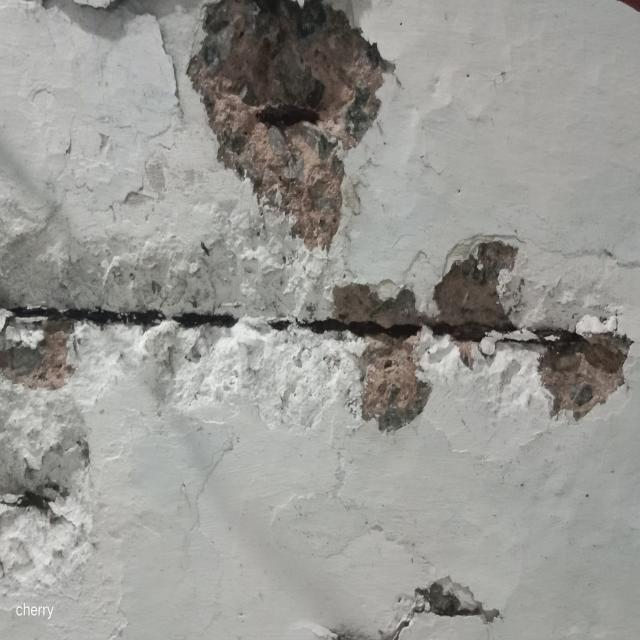Spalling: (184, 0, 396, 248), (333, 239, 522, 434)
corrosion: (9, 300, 492, 339)
